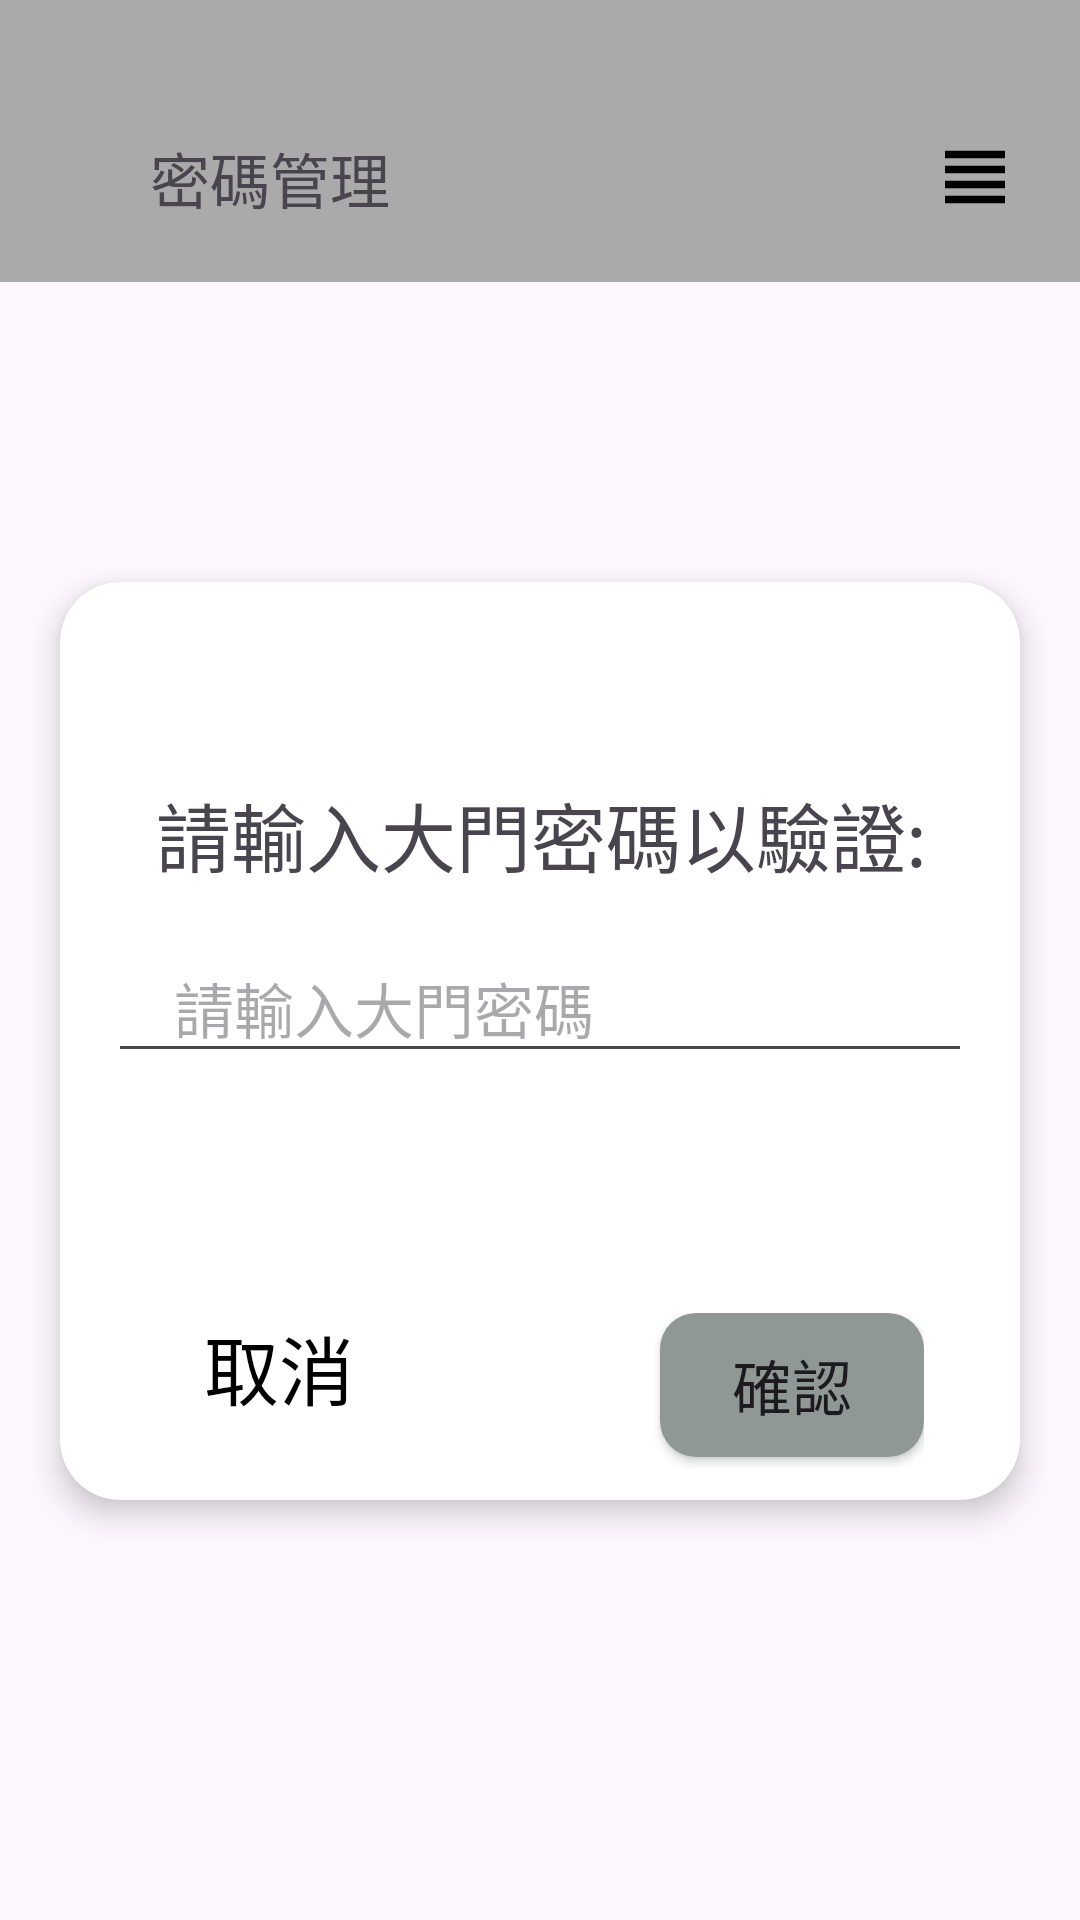

Where icons sit on this 1080x1920 app screen, as region(x1, y1, x2, y2):
其他: region(945, 150, 1005, 204)
